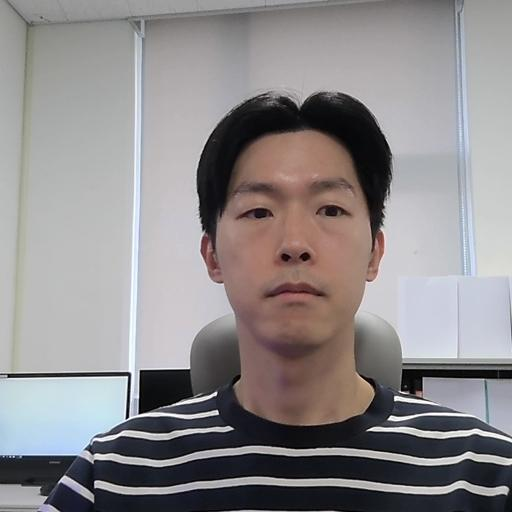no_glasses: (176, 80, 415, 350)
